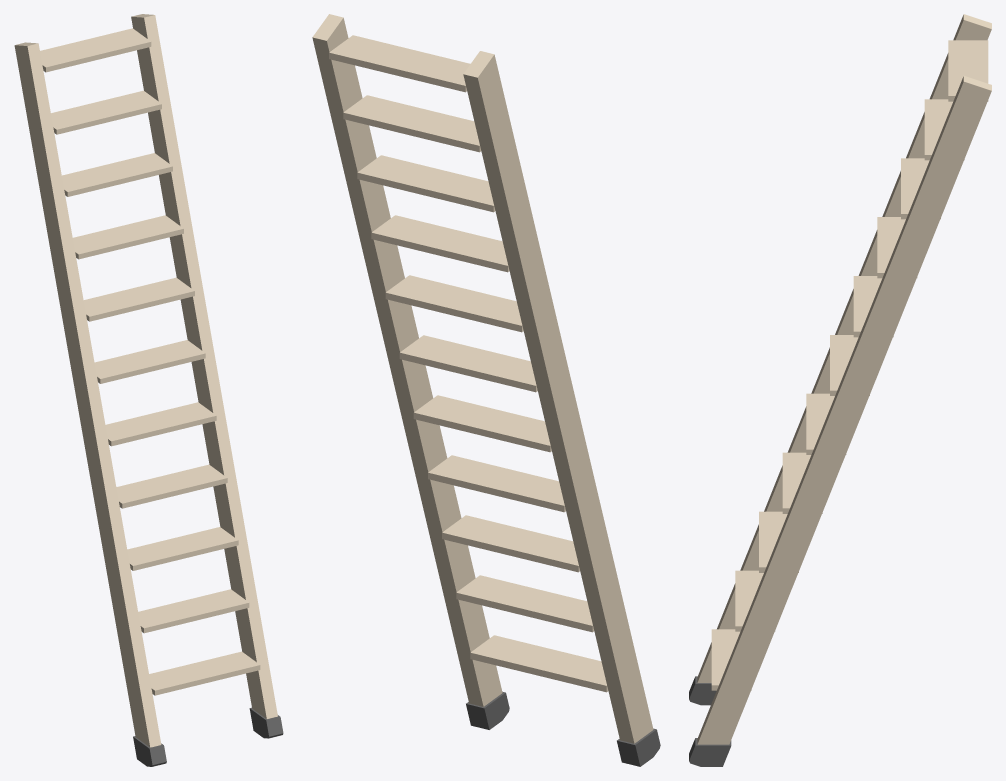
Rendered from hashigo.fbx.
3 views of the same model, side by side, from view 1: azimuth 30°, elevation 25°; view 2: azimuth 150°, elevation 25°; view 3: azimuth 270°, elevation 25° (orthographic). The views are drawn at different scales.
Parts seen in each view (by area): view 1: Body; view 2: Body; view 3: Body.
Part boxes in pixels (left/top/right/bottom): Body: left=14, top=14, right=283, bottom=766; Body: left=312, top=14, right=660, bottom=766; Body: left=689, top=14, right=991, bottom=766.
Size of the model in its own units: 82 by 378 by 152.
